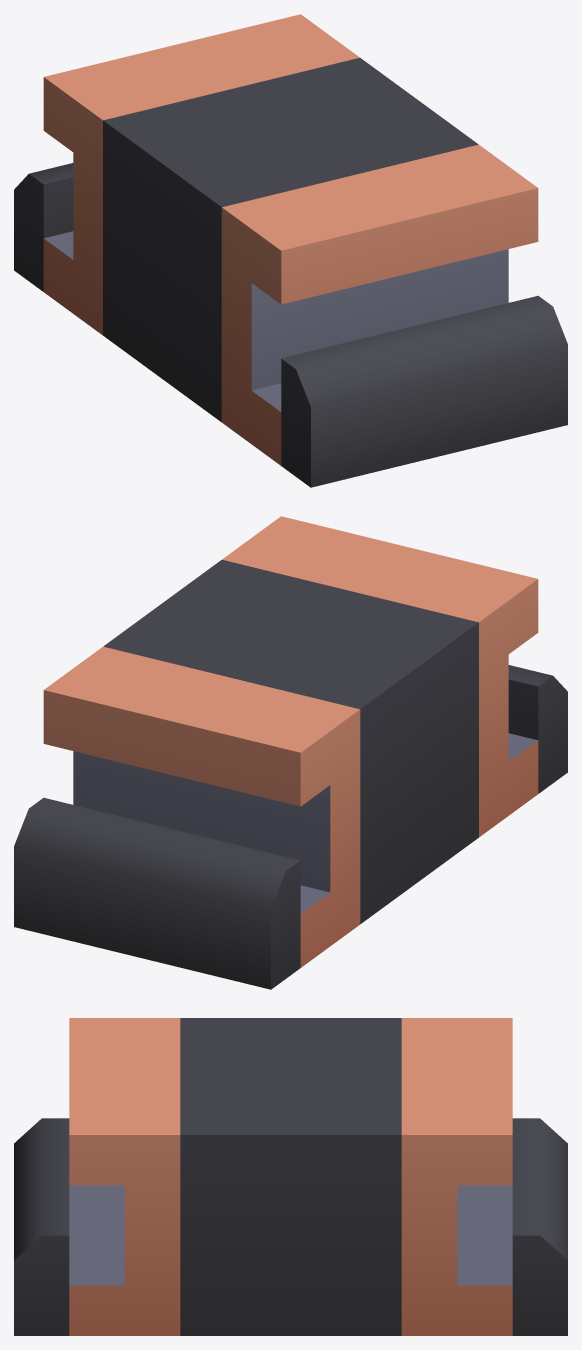
The model's file is conveyor-long-stripe-sides-part-middle.obj.
3 views of the same model, one above another, from view 1: azimuth 30°, elevation 25°; view 2: azimuth 150°, elevation 25°; view 3: azimuth 270°, elevation 25° (orthographic). The views are drawn at different scales.
Visible parts, largest first — view 1: conveyor-long-stripe-sides-part-middle; view 2: conveyor-long-stripe-sides-part-middle; view 3: conveyor-long-stripe-sides-part-middle.
Boxes of the visible parts, x1,y1,x2,y2 form: conveyor-long-stripe-sides-part-middle: (14, 14, 567, 487); conveyor-long-stripe-sides-part-middle: (14, 516, 567, 989); conveyor-long-stripe-sides-part-middle: (14, 1018, 567, 1335).
Size of the model in its own units: 0.5 by 0.4 by 1.
